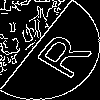R: (25, 25, 94, 81)
